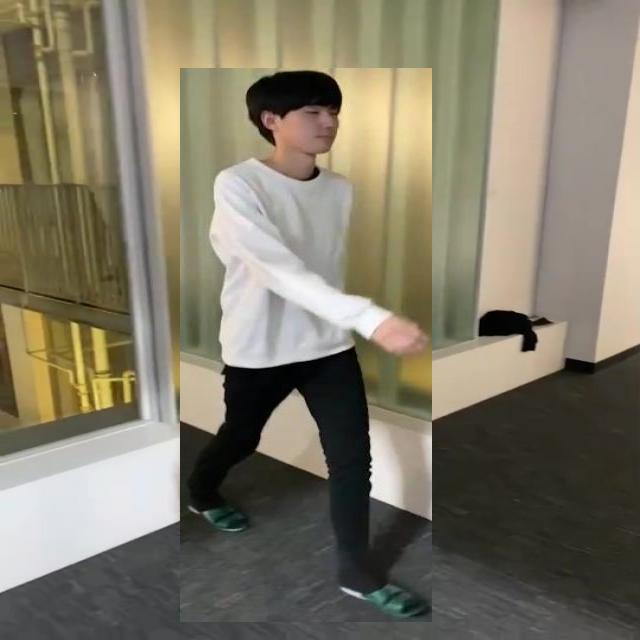direk: (180, 68, 432, 622)
